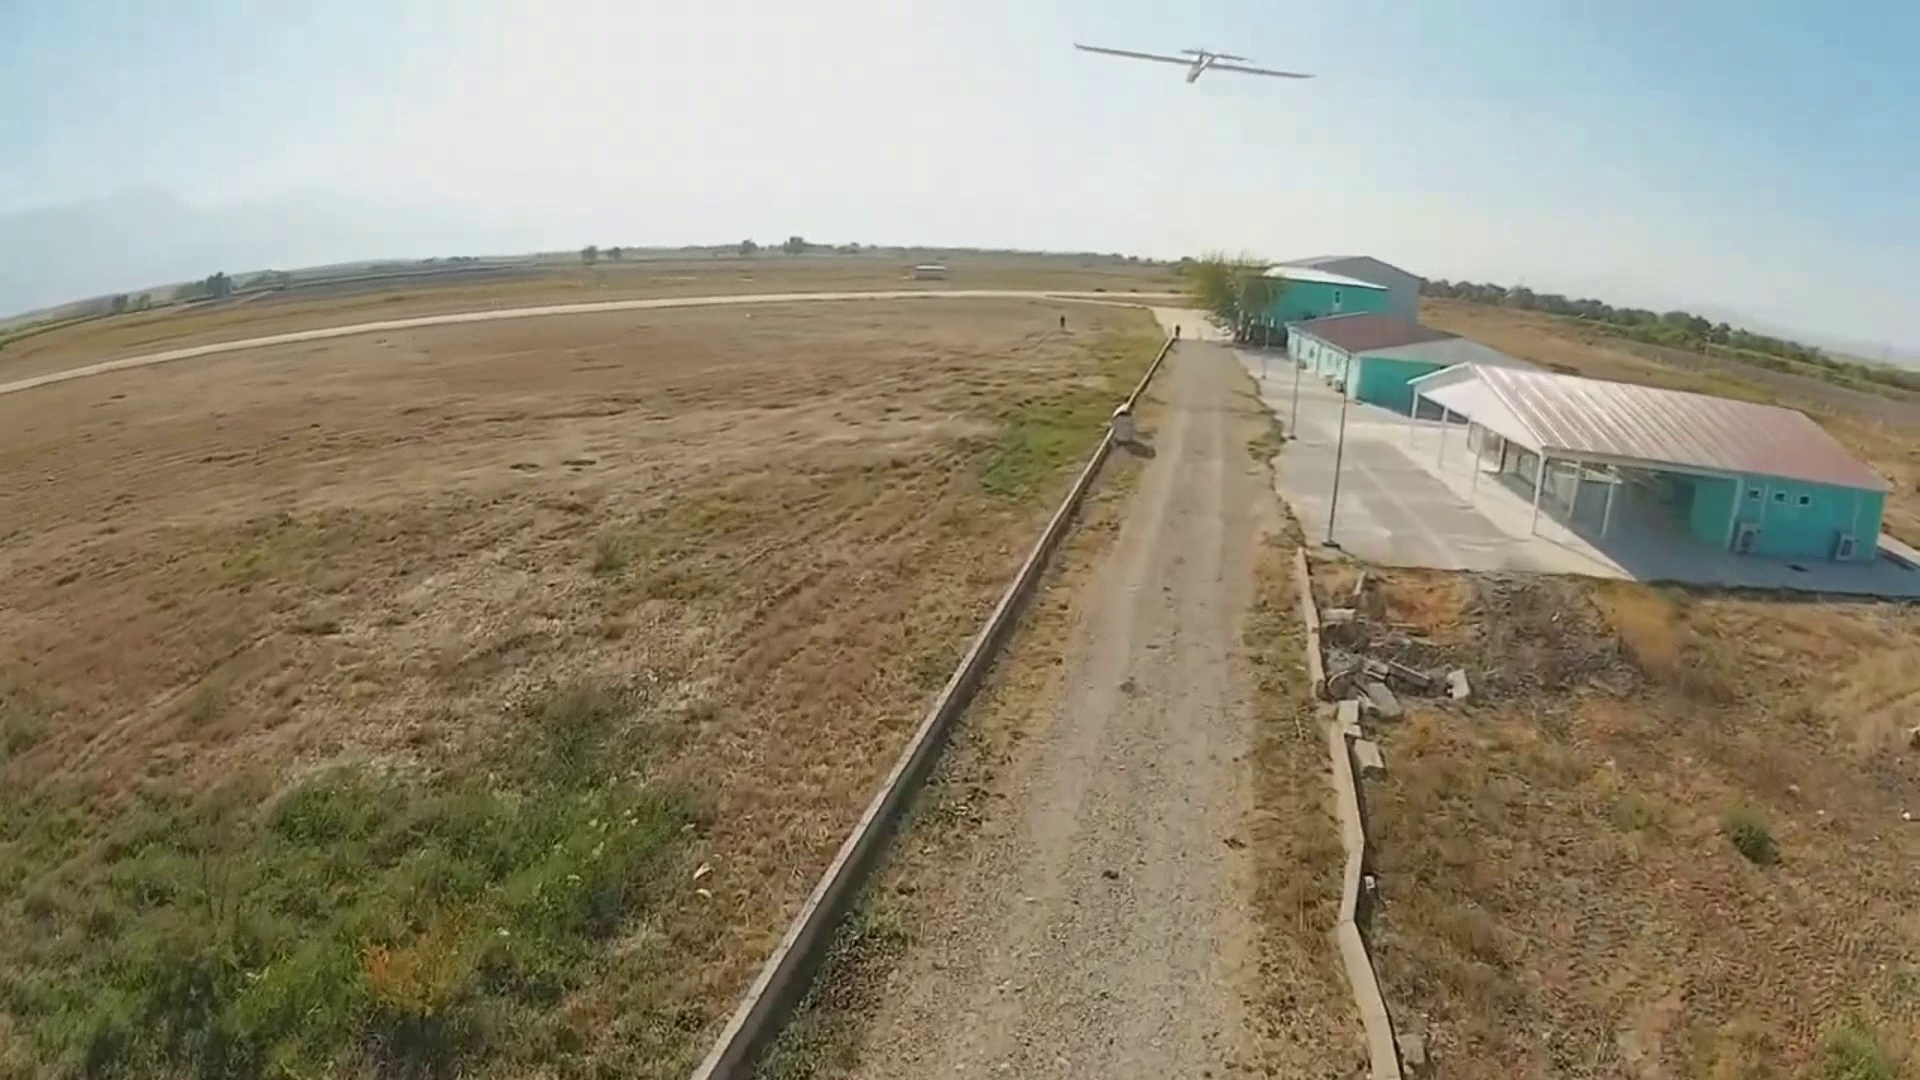airplane: (1069, 40, 1319, 91)
